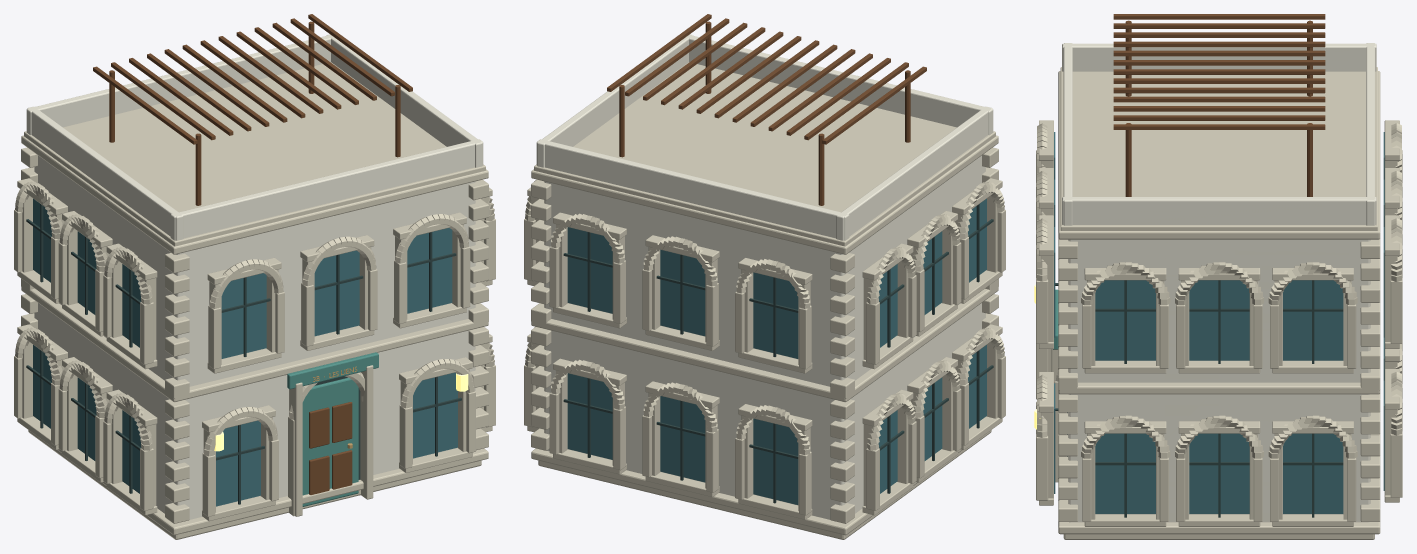
The model's file is algerie-2.glb.
3 views of the same model, side by side, from view 1: azimuth 30°, elevation 25°; view 2: azimuth 150°, elevation 25°; view 3: azimuth 270°, elevation 25° (orthographic). The views are drawn at different scales.
Parts seen in each view (by area): view 1: algerie-2_Dressed stone.003, algerie-2_Masonry plaster.003, algerie-2_Window blue, algerie-2_Walnut, algerie-2_Forged midnight, algerie-2_Regional painted wood.003; view 2: algerie-2_Dressed stone.003, algerie-2_Masonry plaster.003, algerie-2_Window blue, algerie-2_Walnut, algerie-2_Forged midnight; view 3: algerie-2_Dressed stone.003, algerie-2_Masonry plaster.003, algerie-2_Window blue, algerie-2_Walnut, algerie-2_Forged midnight.
Boxes of the visible parts, x1,y1,x2,y2 form: algerie-2_Dressed stone.003: (14, 62, 495, 539); algerie-2_Masonry plaster.003: (26, 34, 483, 519); algerie-2_Window blue: (33, 198, 457, 506); algerie-2_Walnut: (93, 14, 412, 494); algerie-2_Forged midnight: (26, 204, 461, 504); algerie-2_Regional painted wood.003: (287, 352, 378, 506); algerie-2_Dressed stone.003: (524, 62, 1005, 539); algerie-2_Masonry plaster.003: (536, 34, 993, 519); algerie-2_Window blue: (567, 198, 986, 504); algerie-2_Walnut: (607, 14, 926, 205); algerie-2_Forged midnight: (563, 204, 993, 503); algerie-2_Dressed stone.003: (1036, 67, 1402, 539); algerie-2_Masonry plaster.003: (1062, 43, 1376, 522); algerie-2_Window blue: (1054, 132, 1384, 513); algerie-2_Walnut: (1113, 14, 1325, 196); algerie-2_Forged midnight: (1055, 280, 1343, 517).
Size of the model in its own units: 14.12 by 14.27 by 12.18.
